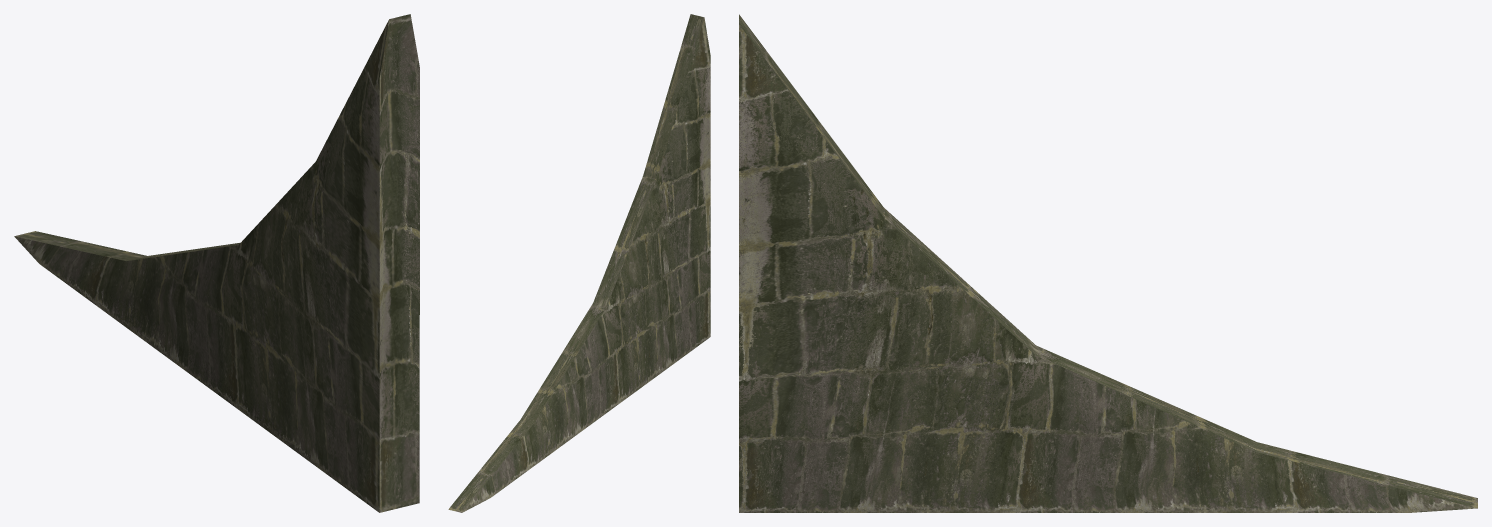
Rendered from GableCurved_Left.fbx.
The picture shows the model from 3 angles, left to right: view 1: azimuth 30°, elevation 25°; view 2: azimuth 150°, elevation 25°; view 3: azimuth 270°, elevation 25°; orthographic projection. The views are drawn at different scales.
Parts seen in each view (by area): view 1: Gable_Down_Left.003; view 2: Gable_Down_Left.003; view 3: Gable_Down_Left.003.
Part boxes in pixels (x1,y1,x2,y2): Gable_Down_Left.003: (14,14,419,512); Gable_Down_Left.003: (448,14,710,512); Gable_Down_Left.003: (739,14,1477,512).
Size of the model in its own units: 51.35 by 596 by 825.
